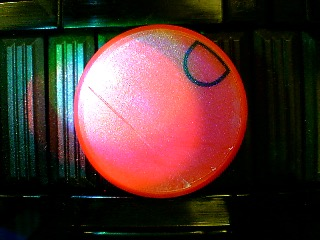MIPO1: (72, 24, 249, 198)
